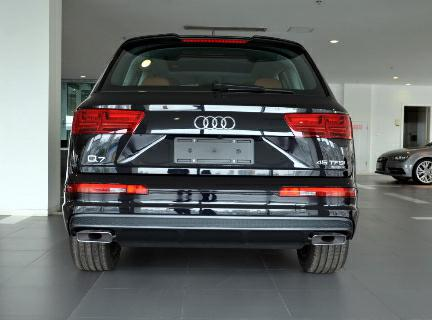奥迪-Q7: (56, 28, 360, 276)
